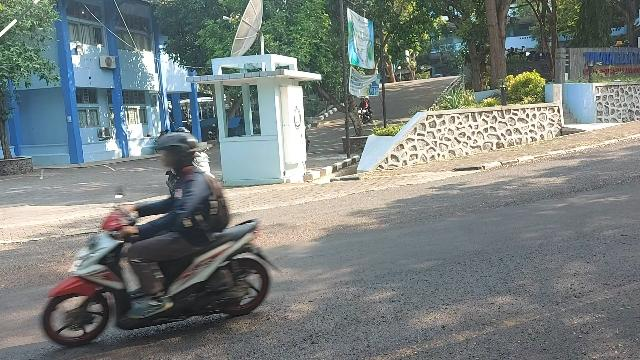helm: (156, 134, 198, 169)
motor: (44, 189, 285, 350)
